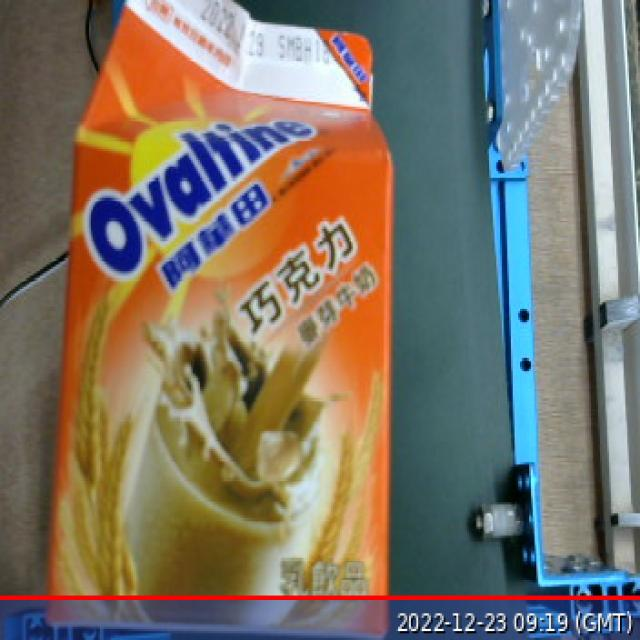non_white_jug: (42, 1, 408, 640)
